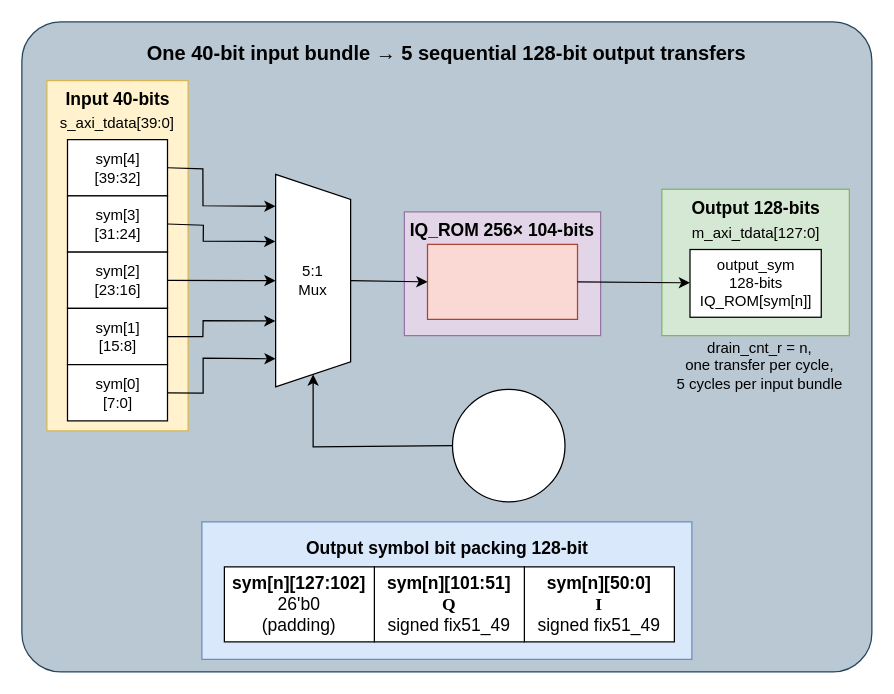
Image size: 894x694. Some labels were removed from this diagram. The box of each missing label's shape, as (x1, y1, x2, y2) in pixels:
drain_cnt_r Cyclic Up-Counter n: 0→4: (451, 388, 565, 502)
IQ_ROM[sym[n]]: (426, 243, 578, 319)
